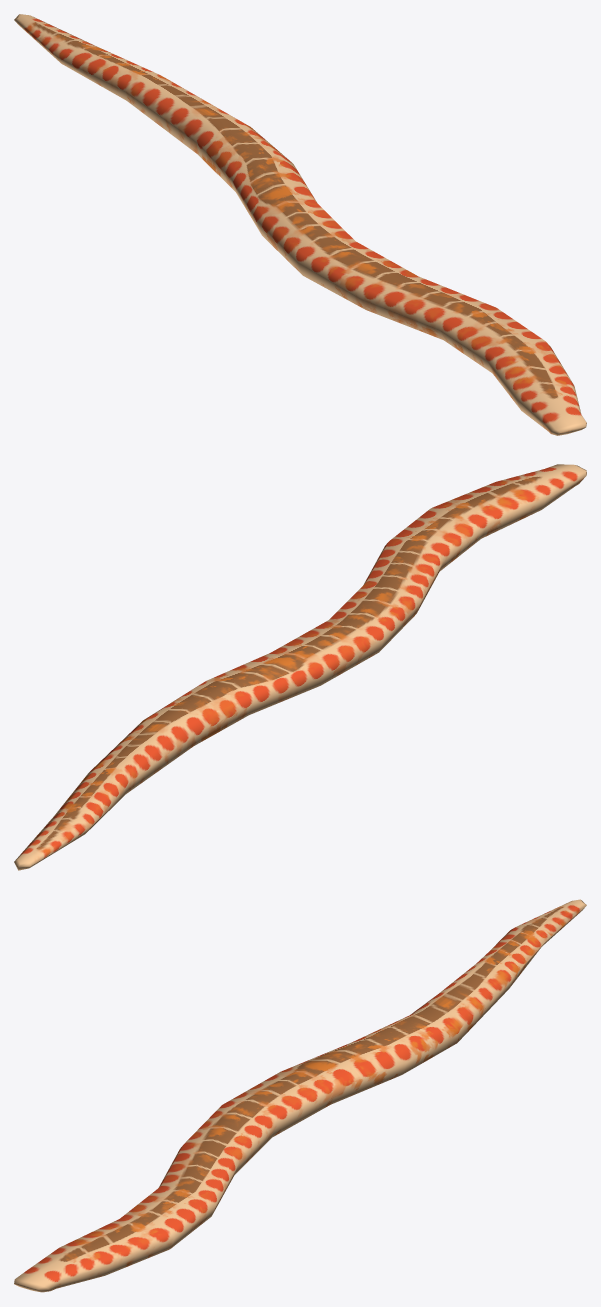
The model's file is bristleWorm00.fbx.
3 views of the same model, one above another, from view 1: azimuth 30°, elevation 25°; view 2: azimuth 150°, elevation 25°; view 3: azimuth 330°, elevation 25° (orthographic). The views are drawn at different scales.
Visible parts, largest first — view 1: bristleWorm_final; view 2: bristleWorm_final; view 3: bristleWorm_final.
Boxes of the visible parts, <box> form: bristleWorm_final: <box>14,14,586,435</box>; bristleWorm_final: <box>14,464,586,870</box>; bristleWorm_final: <box>14,899,586,1292</box>.
Bounding box in the file's own units: 12.62 × 4.38 × 121.
1 material, 1 textured.
